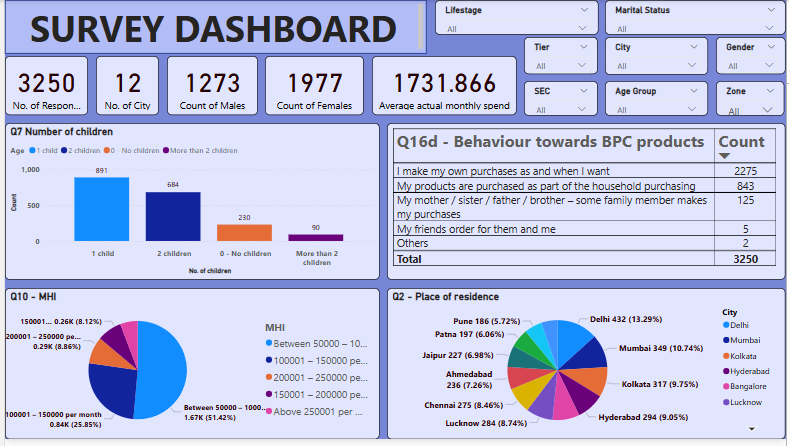

What the dashboard file says about the page in this screenshot:
{"tool":"powerbi","page":{"name":"DASHBOARD","canvas":[1280,720],"ordinal":34},"visuals":[{"type":"card","fields":{"Values":["pub?gid=[phone redacted]&single=true&output=csv.Response ID"]},"box":[0,91.9,136,97.4],"z":0},{"type":"card","fields":{"Values":["pub?gid=[phone redacted]&single=true&output=csv.City"]},"box":[148.9,91.9,102.9,97.4],"z":1000},{"type":"card","fields":{"Values":["pub?gid=[phone redacted]&single=true&output=csv.Gender"]},"box":[264.7,91.9,148.9,97.4],"z":2000},{"type":"slicer","fields":{"Values":["pub?gid=[phone redacted]&single=true&output=csv.Age Group"]},"box":[983.4,132.4,169.1,57],"z":3000},{"type":"slicer","fields":{"Values":["pub?gid=[phone redacted]&single=true&output=csv.Lifestage"]},"box":[704,0,268.4,57],"z":4000},{"type":"textbox","box":[0,0,691.2,88.2],"z":5000},{"type":"slicer","fields":{"Values":["pub?gid=[phone redacted]&single=true&output=csv.Tier"]},"box":[851.1,60.7,121.3,60.7],"z":6000},{"type":"slicer","fields":{"Values":["pub?gid=[phone redacted]&single=true&output=csv.Marital Status"]},"box":[983.4,0,296,57],"z":7000},{"type":"slicer","fields":{"Values":["pub?gid=[phone redacted]&single=true&output=csv.City"]},"box":[983.4,60.7,169.1,62.5],"z":8000},{"type":"slicer","fields":{"Values":["pub?gid=[phone redacted]&single=true&output=csv.Zone"]},"box":[1165.4,132.4,112.1,57],"z":9000},{"type":"slicer","fields":{"Values":["pub?gid=[phone redacted]&single=true&output=csv.SEC"]},"box":[851.1,132.4,121.3,57],"z":10000},{"type":"card","fields":{"Values":["pub?gid=[phone redacted]&single=true&output=csv.Gender"]},"box":[426.5,91.9,161.8,97.4],"z":11000},{"type":"slicer","fields":{"Values":["pub?gid=[phone redacted]&single=true&output=csv.Gender"]},"box":[1165.4,60.7,114,60.7],"z":12000},{"type":"pieChart","title":"Q10 - MHI","fields":{"Category":["pub?gid=[phone redacted]&single=true&output=csv.Q10. सभी स्रोतों से आपके परिवार की मासिक घरेलू आय (एमएचआई) कितनी होगी?Q10. Wha"],"Y":["CountNonNull(pub?gid=[phone redacted]&single=true&output=csv.Q10. सभी स्रोतों से आपके परिवार की मासिक घरेलू आय (एमएचआई) कितनी "]},"box":[0,472.4,614,248.2],"z":13000},{"type":"tableEx","fields":{"Values":["pub?gid=[phone redacted]&single=true&output=csv.Q16d. Which option best describes your behaviour towards beauty and personal c","CountNonNull(pub?gid=[phone redacted]&single=true&output=csv.Q16d. Which option best describes your behaviour towards beauty a"]},"box":[626.8,202.2,652.6,257.3],"z":14000},{"type":"card","fields":{"Values":["Sum(pub?gid=[phone redacted]&single=true&output=csv.Q16a. How much do you spend on them on an average per month?PLEASE ENTER I"]},"box":[601.1,91.9,237.1,97.4],"z":15000},{"type":"pieChart","title":"Q2 - Place of residence","fields":{"Category":["pub?gid=[phone redacted]&single=true&output=csv.City"],"Y":["pub?gid=[phone redacted]&single=true&output=csv.City"]},"box":[626.8,472.4,652.6,248.2],"z":16000},{"type":"columnChart","title":"Q7 Number of children","fields":{"Series":["pub?gid=[phone redacted]&single=true&output=csv.Q7. आपके कितने बच्चे हैं?Q7. How many children do you have?"],"Category":["pub?gid=[phone redacted]&single=true&output=csv.Q7. आपके कितने बच्चे हैं?Q7. How many children do you have?"],"Y":["pub?gid=[phone redacted]&single=true&output=csv.Q7. आपके कितने बच्चे हैं?Q7. How many children do you have?"]},"box":[0,202.2,614,257.3],"z":17000}]}

Visuals, with their boxes in screenshot pixels (x1, y1, x2, y2), scaled from the page's 1280x720 canvas onto the 789x446 screenshot:
card - pub?gid=[phone redacted]&single=true&output=csv.Response ID: BBox(0, 57, 84, 117)
card - pub?gid=[phone redacted]&single=true&output=csv.City: BBox(92, 57, 155, 117)
card - pub?gid=[phone redacted]&single=true&output=csv.Gender: BBox(163, 57, 255, 117)
slicer - pub?gid=[phone redacted]&single=true&output=csv.Age Group: BBox(606, 82, 710, 117)
slicer - pub?gid=[phone redacted]&single=true&output=csv.Lifestage: BBox(434, 0, 599, 35)
textbox: BBox(0, 0, 426, 55)
slicer - pub?gid=[phone redacted]&single=true&output=csv.Tier: BBox(525, 38, 599, 75)
slicer - pub?gid=[phone redacted]&single=true&output=csv.Marital Status: BBox(606, 0, 788, 35)
slicer - pub?gid=[phone redacted]&single=true&output=csv.City: BBox(606, 38, 710, 76)
slicer - pub?gid=[phone redacted]&single=true&output=csv.Zone: BBox(718, 82, 787, 117)
slicer - pub?gid=[phone redacted]&single=true&output=csv.SEC: BBox(525, 82, 599, 117)
card - pub?gid=[phone redacted]&single=true&output=csv.Gender: BBox(263, 57, 363, 117)
slicer - pub?gid=[phone redacted]&single=true&output=csv.Gender: BBox(718, 38, 788, 75)
"Q10 - MHI" pieChart: BBox(0, 293, 378, 445)
tableEx - pub?gid=[phone redacted]&single=true&output=csv.Q16d. Which option best describes your behaviour towards beauty and personal c x CountNonNull(pub?gid=[phone redacted]&single=true&output=csv.Q16d. Which option best describes your behaviour towards beauty a: BBox(386, 125, 788, 285)
card - Sum(pub?gid=[phone redacted]&single=true&output=csv.Q16a. How much do you spend on them on an average per month?PLEASE ENTER I: BBox(371, 57, 517, 117)
"Q2 - Place of residence" pieChart: BBox(386, 293, 788, 445)
"Q7 Number of children" columnChart: BBox(0, 125, 378, 285)
